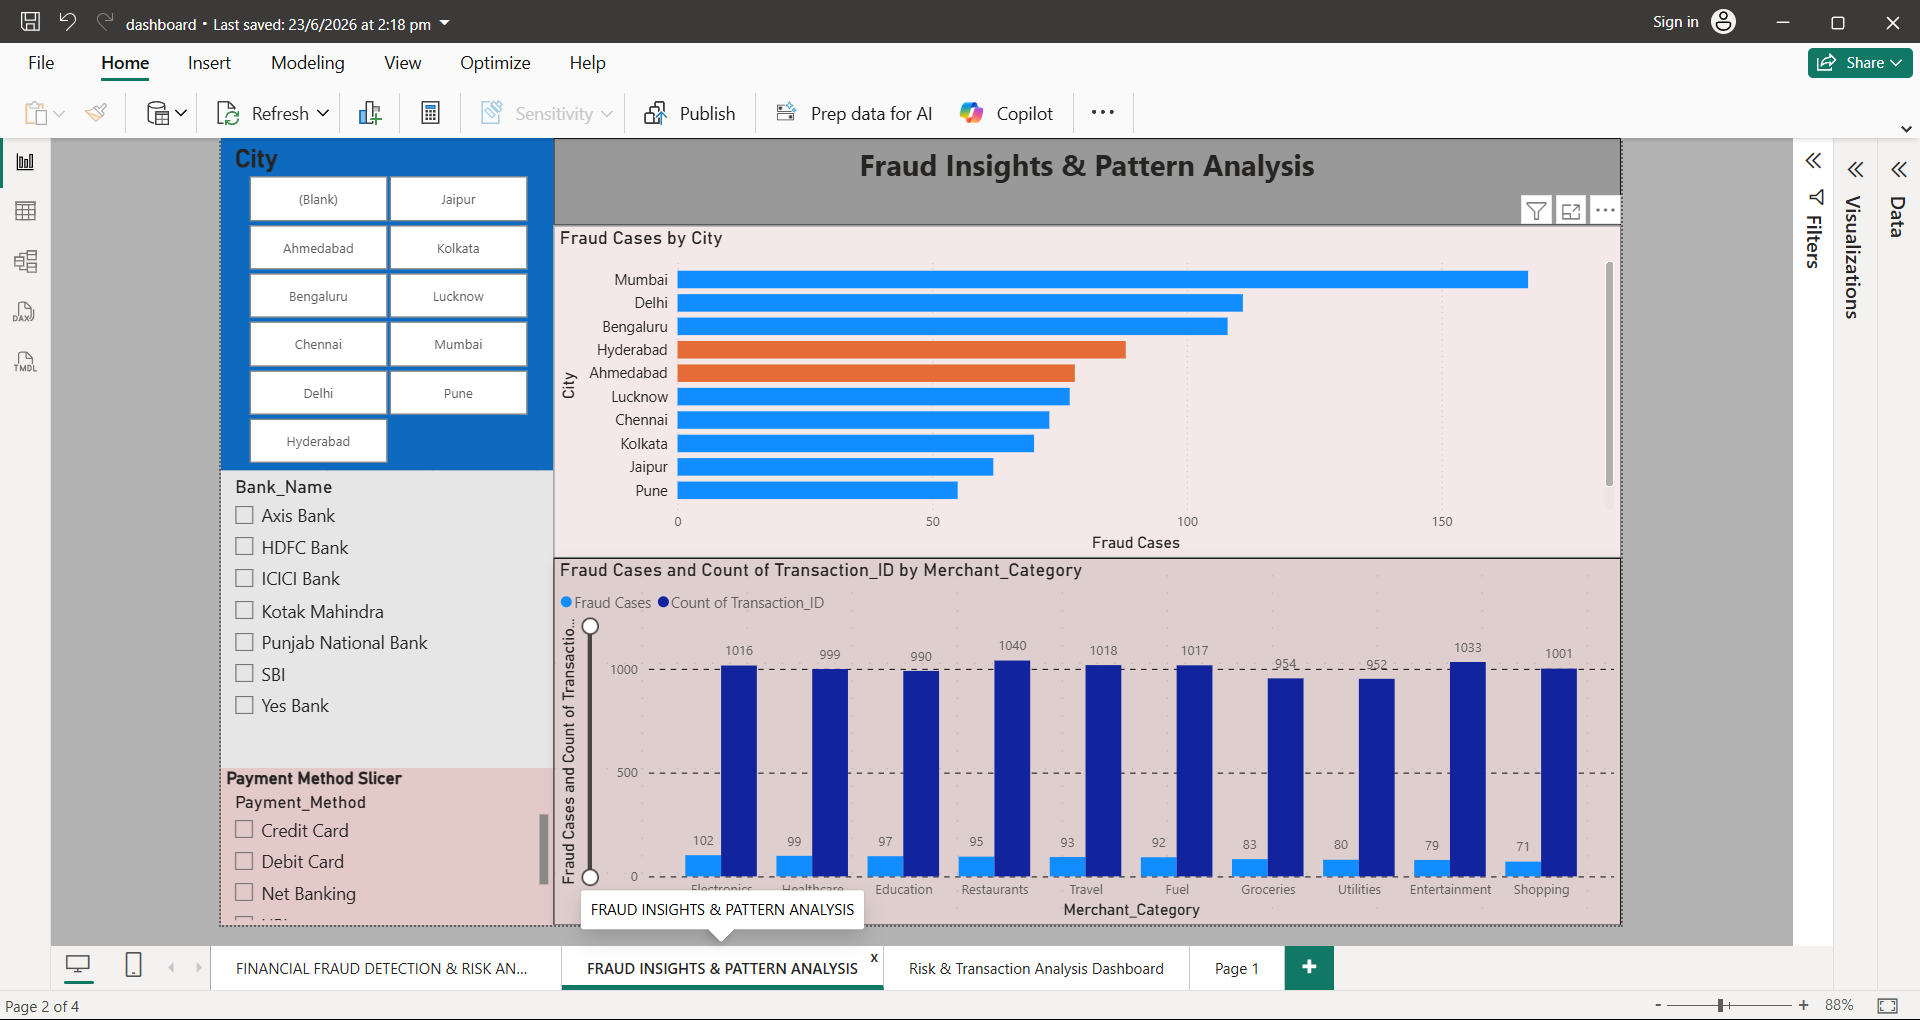

This screenshot's page, from the dashboard's own definition file:
{"tool":"powerbi","page":{"name":"FRAUD INSIGHTS & PATTERN ANALYSIS","canvas":[1280,720],"ordinal":1},"visuals":[{"type":"textbox","box":[304,0,976,80],"z":0},{"type":"slicer","fields":{"Values":["vw_FraudAnalysis.City"]},"box":[0,0,304,304],"z":1000},{"type":"slicer","fields":{"Values":["vw_FraudAnalysis.Bank_Name"]},"box":[0,304,304,272],"z":2000},{"type":"slicer","title":"Payment Method Slicer","fields":{"Values":["vw_FraudAnalysis.Payment_Method"]},"box":[0,576,304,144],"z":3000},{"type":"clusteredBarChart","fields":{"Category":["vw_FraudAnalysis.City"],"Y":["vw_FraudAnalysis.Fraud Cases"]},"box":[304,80,976,304],"z":4000},{"type":"clusteredColumnChart","fields":{"Category":["vw_FraudAnalysis.Merchant_Category"],"Y":["vw_FraudAnalysis.Fraud Cases","CountNonNull(vw_FraudAnalysis.Transaction_ID)"]},"box":[304,384,976,336],"z":4001}]}

Visuals, with their boxes on the page's 1280x720 design canvas (x1, y1, x2, y2). These are canvas units, not pixel positions in the 1920x1020 screenshot, which may show the page scaled, cropped or inside an application window:
textbox: [x1=304, y1=0, x2=1280, y2=80]
slicer - vw_FraudAnalysis.City: [x1=0, y1=0, x2=304, y2=304]
slicer - vw_FraudAnalysis.Bank_Name: [x1=0, y1=304, x2=304, y2=576]
"Payment Method Slicer" slicer: [x1=0, y1=576, x2=304, y2=720]
clusteredBarChart - vw_FraudAnalysis.City x vw_FraudAnalysis.Fraud Cases: [x1=304, y1=80, x2=1280, y2=384]
clusteredColumnChart - vw_FraudAnalysis.Merchant_Category x vw_FraudAnalysis.Fraud Cases: [x1=304, y1=384, x2=1280, y2=720]
